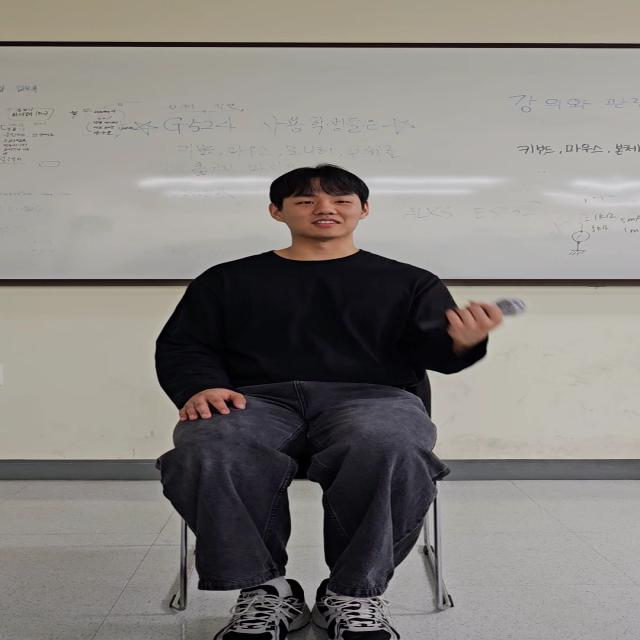curl: (372, 250, 526, 376)
